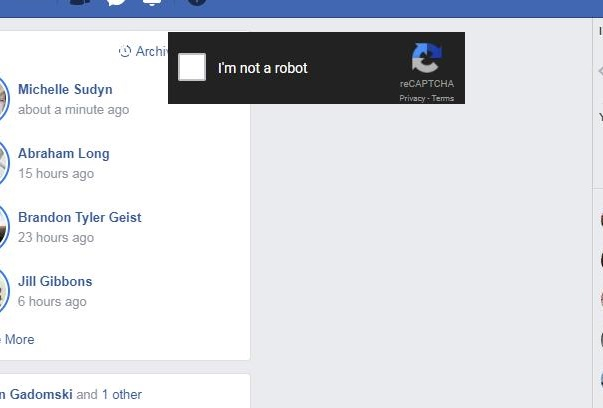captcha: (178, 52, 309, 83)
